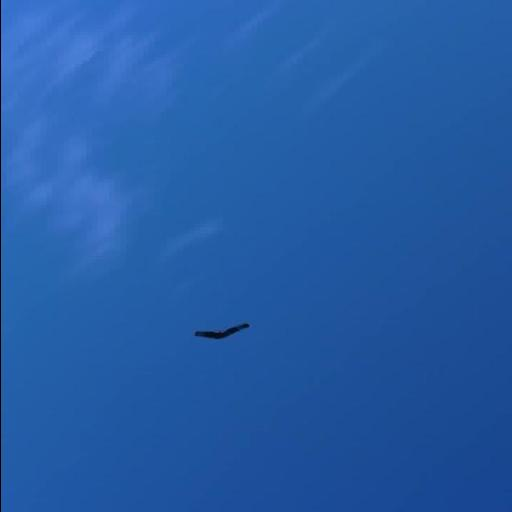uav: (182, 312, 254, 344)
